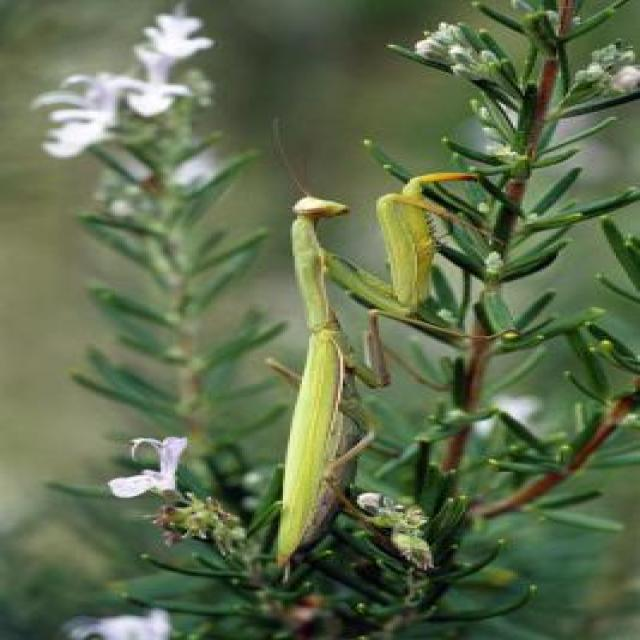antennae: (269, 121, 315, 193)
body: (275, 202, 362, 561)
insect: (266, 120, 489, 581)
legs: (323, 169, 486, 314), (327, 193, 483, 317), (331, 305, 506, 392), (318, 384, 373, 517), (269, 354, 308, 386)
mouthpart: (329, 201, 350, 217)
wings: (274, 333, 340, 554)
